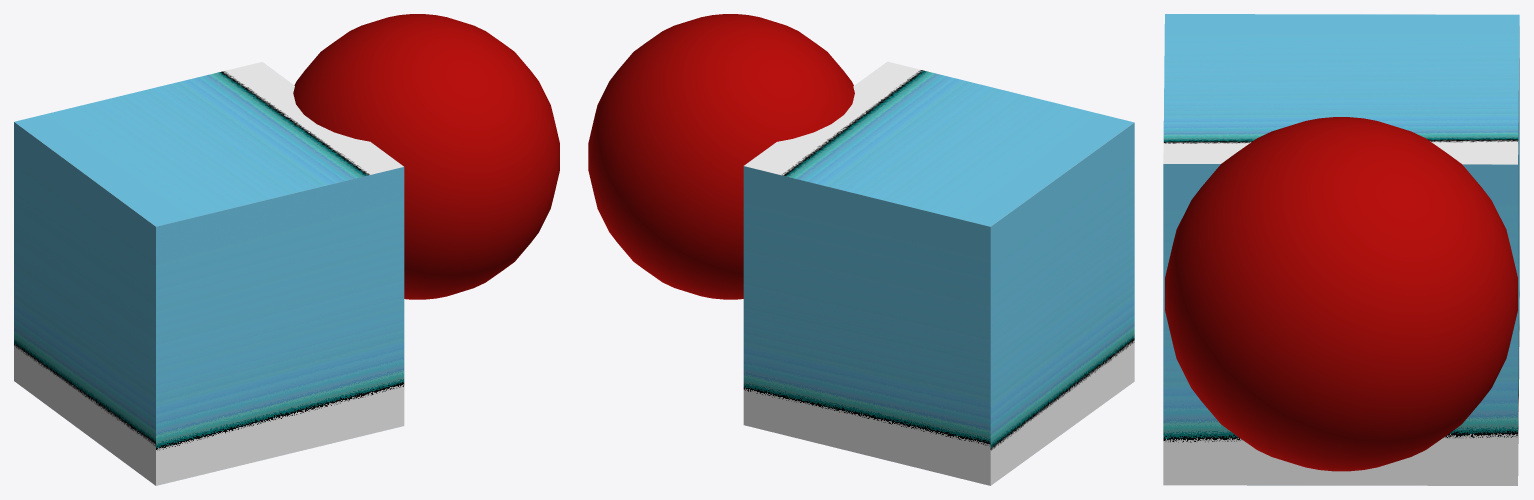
File: anim_transparency.fbx
3 renders of one model, left to right at view 1: azimuth 30°, elevation 25°; view 2: azimuth 150°, elevation 25°; view 3: azimuth 270°, elevation 25°, orthographic. The views are drawn at different scales.
Visible parts, largest first — view 1: Box, Ball; view 2: Box, Ball; view 3: Ball, Box.
Boxes of the visible parts, x1,y1,x2,y2 form: Box: [14, 62, 404, 485]; Ball: [293, 14, 559, 299]; Box: [743, 61, 1134, 485]; Ball: [588, 14, 854, 299]; Ball: [1165, 117, 1517, 471]; Box: [1163, 14, 1519, 485].
Size of the model in its own units: 184 by 126 by 100.
